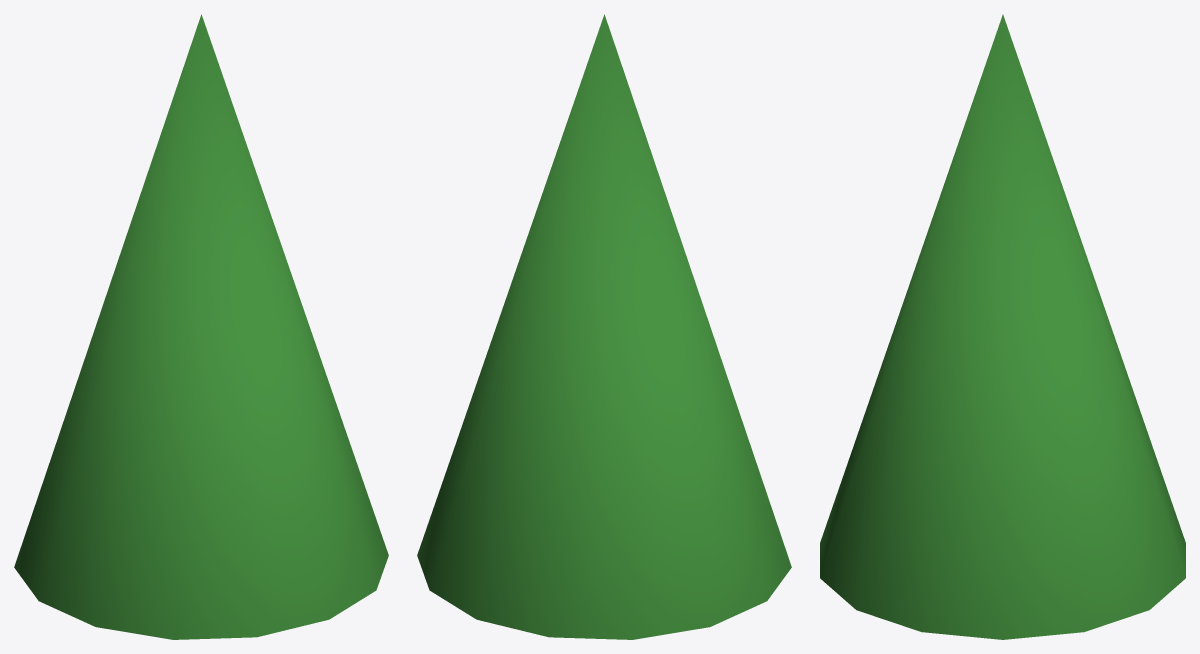
The model's file is Var_1.fbx.
3 views of the same model, side by side, from view 1: azimuth 30°, elevation 25°; view 2: azimuth 150°, elevation 25°; view 3: azimuth 270°, elevation 25° (orthographic).
Visible parts, largest first — view 1: Var_1; view 2: Var_1; view 3: Var_1.
Part boxes in pixels (left/top/right/bottom): Var_1: left=14, top=14, right=388, bottom=639; Var_1: left=417, top=14, right=791, bottom=639; Var_1: left=820, top=14, right=1185, bottom=639.
Size of the model in its own units: 192 by 309 by 187.
